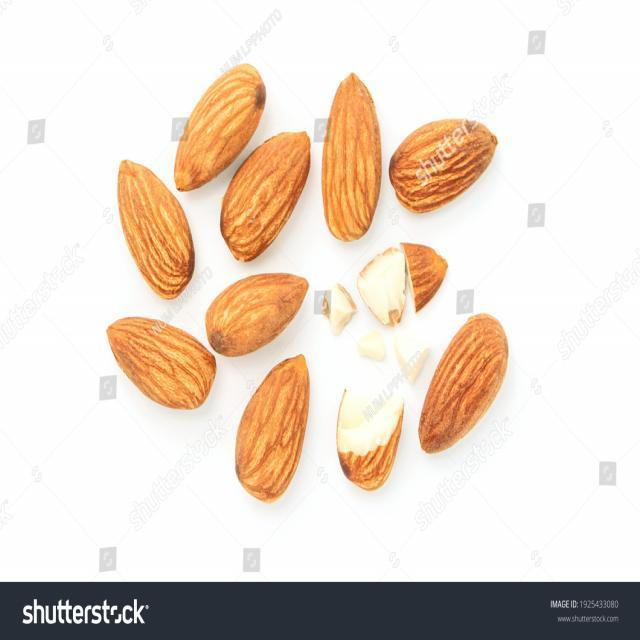almond: (417, 310, 512, 457), (172, 62, 268, 195), (218, 127, 312, 260), (232, 350, 312, 498), (385, 115, 500, 212), (117, 155, 195, 297), (107, 317, 218, 413), (322, 70, 382, 238), (202, 269, 312, 359)
